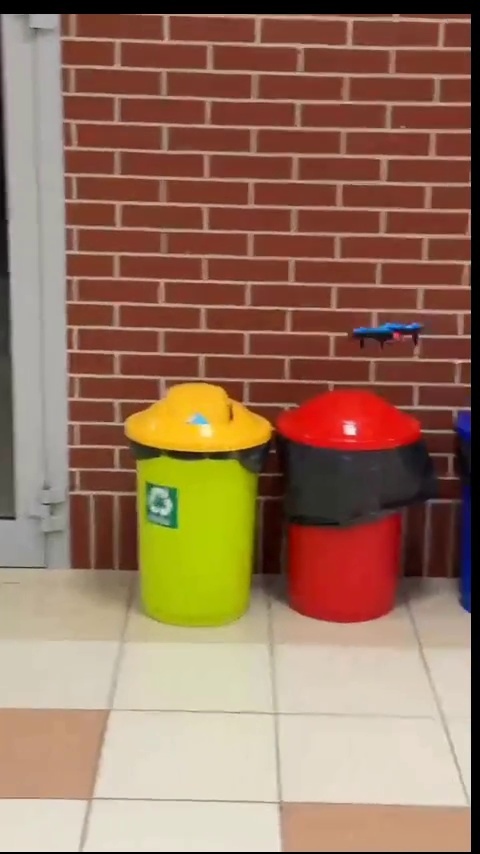drone: (351, 319, 429, 352)
